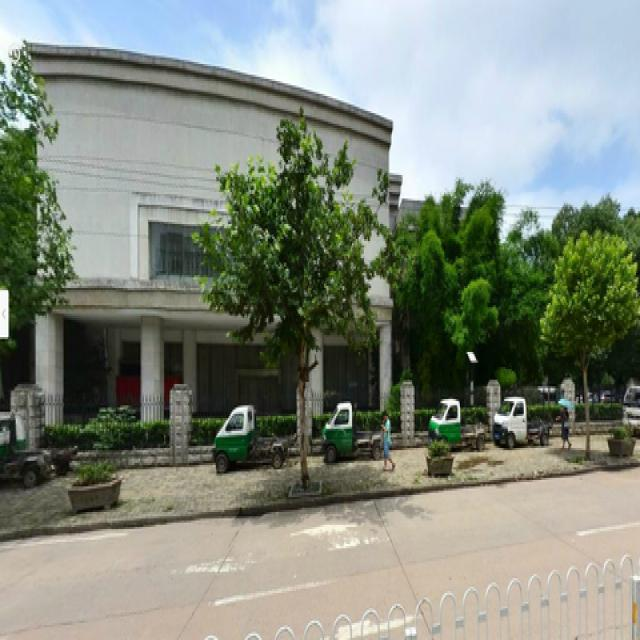meta: (221, 139, 380, 452)
